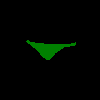mutande: (26, 39, 76, 60)
